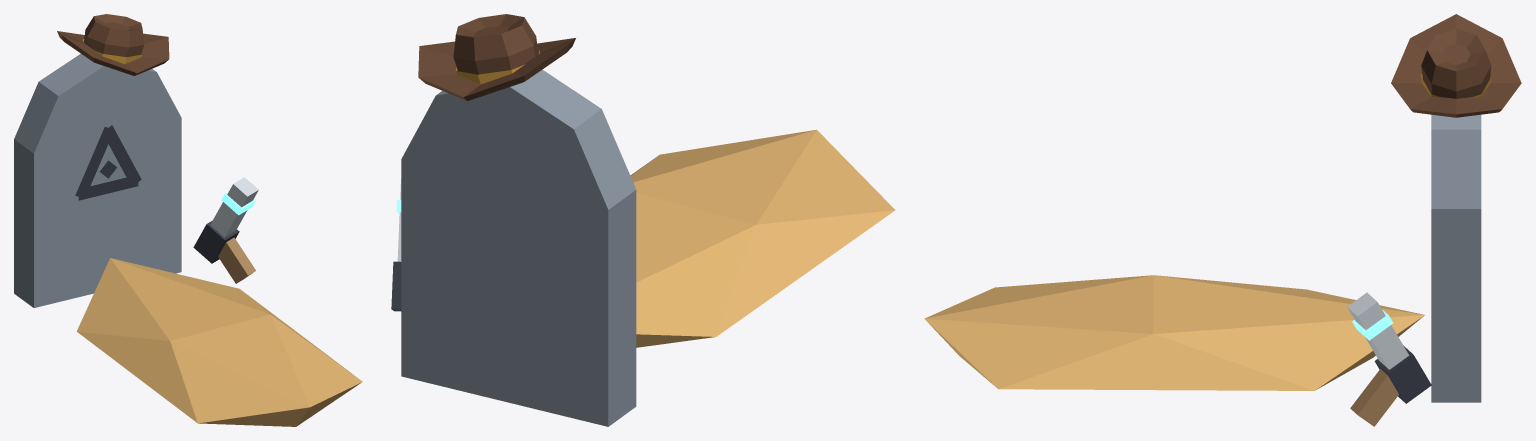
Rendered from MineGrave.fbx.
3 views of the same model, side by side, from view 1: azimuth 30°, elevation 25°; view 2: azimuth 150°, elevation 25°; view 3: azimuth 270°, elevation 25° (orthographic). The views are drawn at different scales.
Visible parts, largest first — view 1: Prop_GraveMarker_B_Body, Prop_GraveMarker_B_Ray_Gun; view 2: Prop_GraveMarker_B_Body, Prop_GraveMarker_B_Ray_Gun; view 3: Prop_GraveMarker_B_Body, Prop_GraveMarker_B_Ray_Gun.
Boxes of the visible parts, x1,y1,x2,y2 form: Prop_GraveMarker_B_Body: (14, 14, 362, 426); Prop_GraveMarker_B_Ray_Gun: (193, 177, 258, 283); Prop_GraveMarker_B_Body: (401, 14, 895, 426); Prop_GraveMarker_B_Ray_Gun: (391, 178, 401, 311); Prop_GraveMarker_B_Body: (924, 14, 1521, 402); Prop_GraveMarker_B_Ray_Gun: (1347, 292, 1431, 426).
Size of the model in its own units: 0.837 by 1.02 by 1.68.
